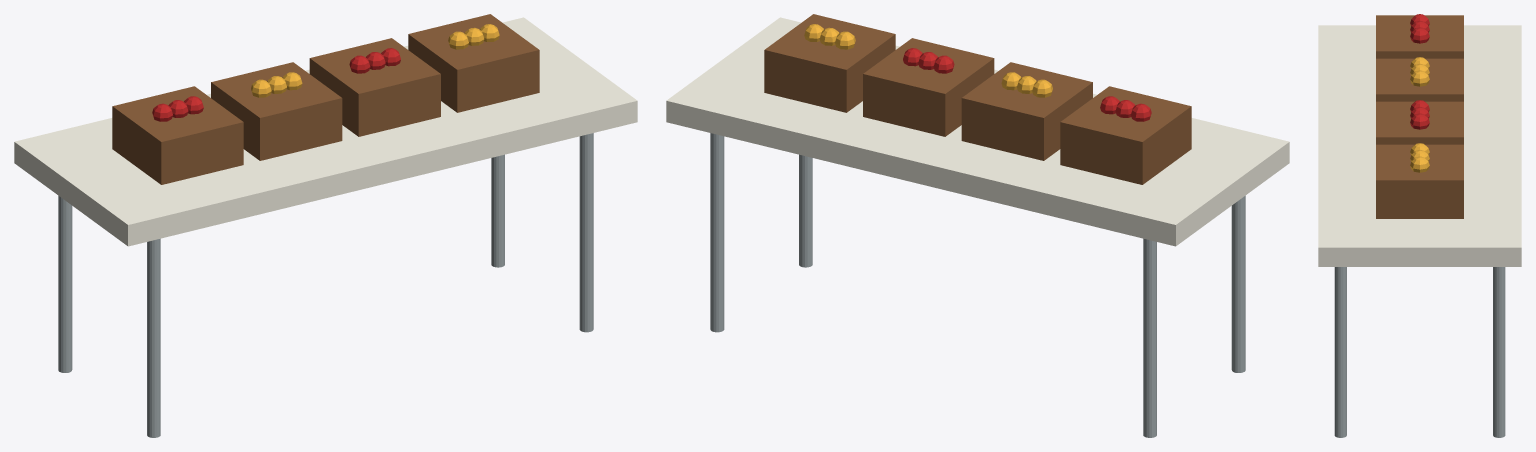
Rendered from scendance-plan-feed-station.glb.
The picture shows the model from 3 angles, left to right: view 1: azimuth 30°, elevation 25°; view 2: azimuth 150°, elevation 25°; view 3: azimuth 270°, elevation 25°; orthographic projection. The views are drawn at different scales.
Bounding box in the file's own units: 1.86 × 0.994 × 0.72.
